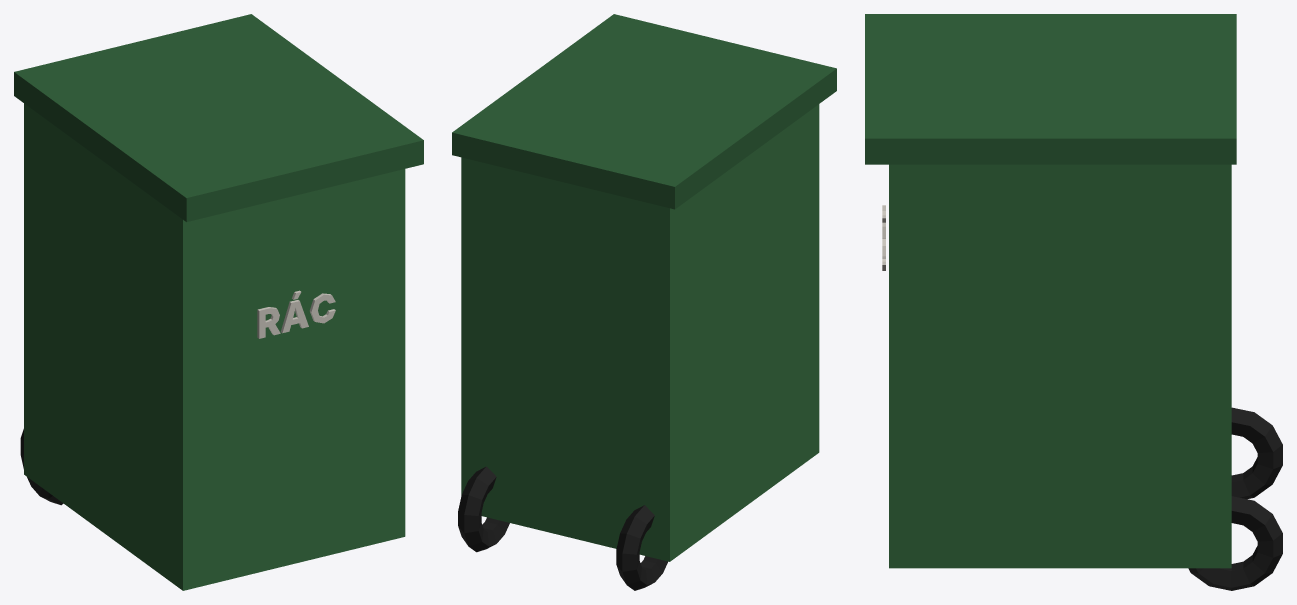
File: thung_rac.glb
3 views of the same model, side by side, from view 1: azimuth 30°, elevation 25°; view 2: azimuth 150°, elevation 25°; view 3: azimuth 270°, elevation 25° (orthographic). The views are drawn at different scales.
Parts seen in each view (by area): view 1: thung_rac; view 2: thung_rac; view 3: thung_rac.
Boxes of the visible parts, x1,y1,x2,y2 form: thung_rac: [14, 14, 423, 590]; thung_rac: [452, 14, 836, 590]; thung_rac: [865, 14, 1282, 590].
Size of the model in its own units: 0.62 by 1.09 by 0.8772.
